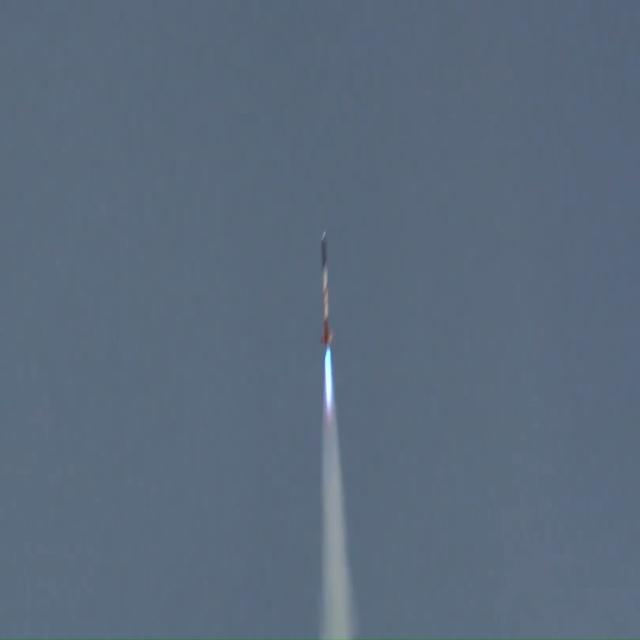Rocket: (319, 230, 336, 351)
